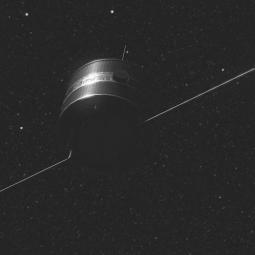double_start: (52, 46, 170, 178)
